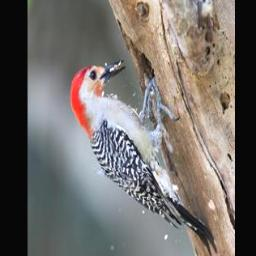Woodpecker: (70, 60, 215, 252)
